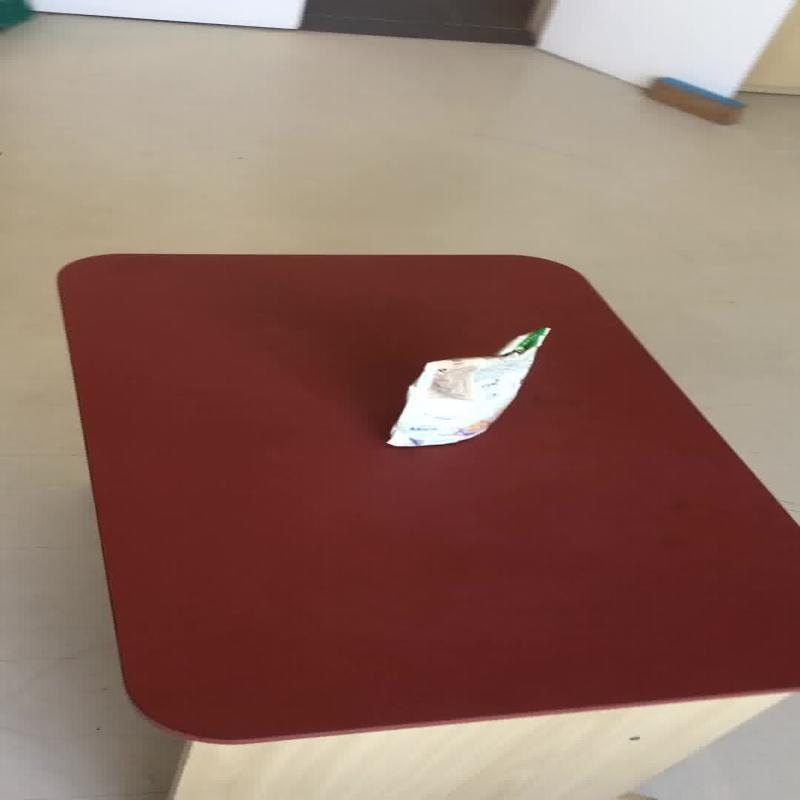corn flakes: (382, 325, 550, 447)
